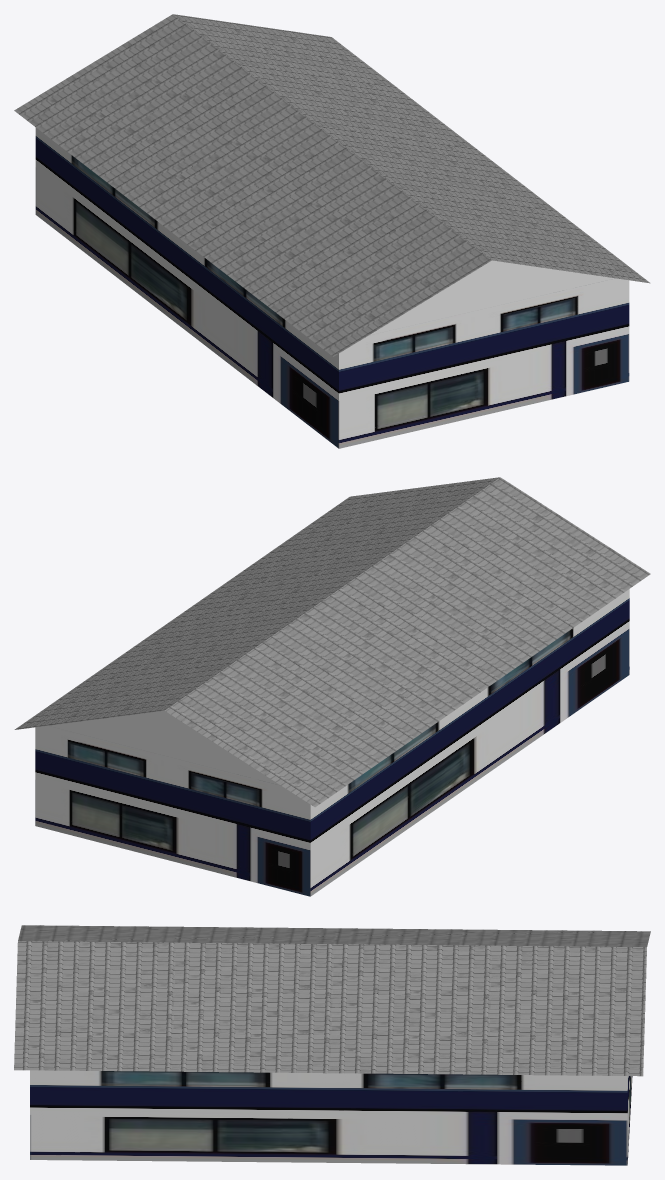
3 views of the same model, one above another, from view 1: azimuth 30°, elevation 25°; view 2: azimuth 150°, elevation 25°; view 3: azimuth 270°, elevation 25° (orthographic). The views are drawn at different scales.
Visible parts, largest first — view 1: CityEngineMaterial_4_m, CityEngineMaterial_2_m, CityEngineMaterial_3_m; view 2: CityEngineMaterial_4_m, CityEngineMaterial_2_m, CityEngineMaterial_3_m; view 3: CityEngineMaterial_4_m, CityEngineMaterial_2_m.
Part boxes in pixels (x1,y1,x2,y2): CityEngineMaterial_4_m: (14, 14, 650, 356); CityEngineMaterial_2_m: (35, 127, 629, 448); CityEngineMaterial_3_m: (369, 260, 614, 335); CityEngineMaterial_4_m: (14, 477, 650, 807); CityEngineMaterial_2_m: (35, 589, 629, 896); CityEngineMaterial_3_m: (48, 710, 280, 785); CityEngineMaterial_4_m: (14, 925, 650, 1076); CityEngineMaterial_2_m: (30, 1070, 632, 1165).
Bounding box in the file's own units: 22.57 × 10.64 × 40.26.
